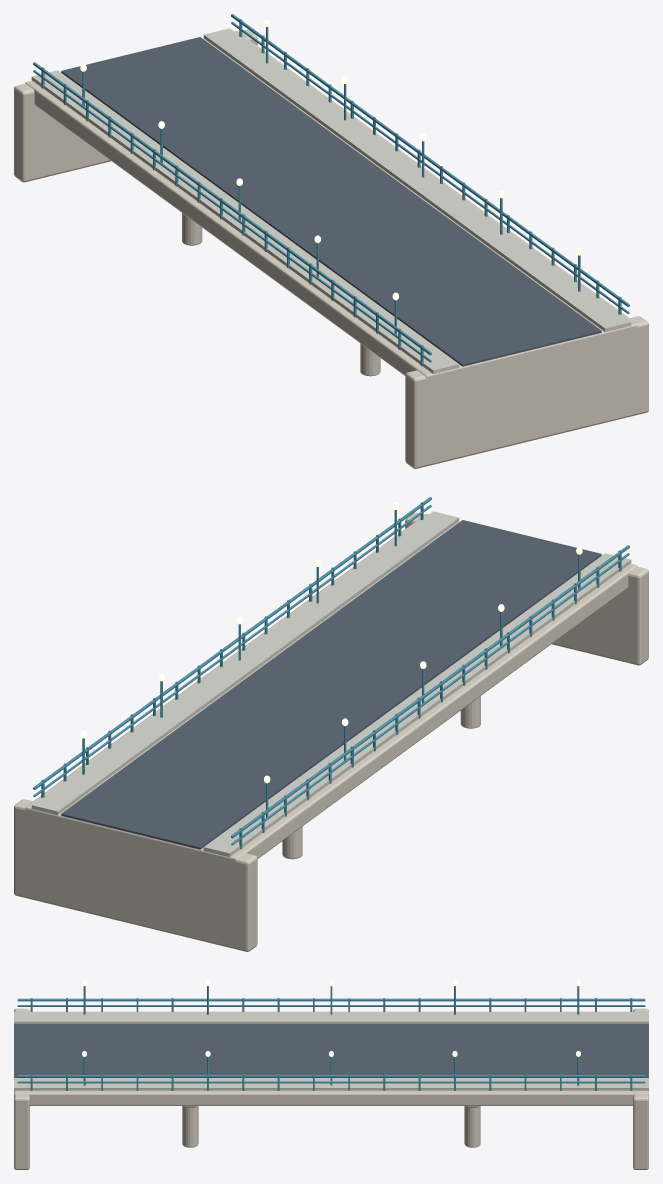
File: SM_SolCity_Bridge_01.fbx
3 views of the same model, one above another, from view 1: azimuth 30°, elevation 25°; view 2: azimuth 150°, elevation 25°; view 3: azimuth 270°, elevation 25° (orthographic). The views are drawn at different scales.
Visible parts, largest first — view 1: Bridge_Roadway, Bridge_Abutment_-1, Bridge_Deck, Bridge_Walk_1, Bridge_Walk_-1, Bridge_Abutment_1, Bridge_RailTop_-1, Bridge_RailTop_1, Bridge_RailMid_-1, Bridge_RailMid_1; view 2: Bridge_Roadway, Bridge_Abutment_1, Bridge_Deck, Bridge_Walk_1, Bridge_Walk_-1, Bridge_Abutment_-1, Bridge_RailTop_-1, Bridge_RailTop_1, Bridge_RailMid_-1, Bridge_RailMid_1; view 3: Bridge_Roadway, Bridge_Deck, Bridge_Walk_-1, Bridge_Walk_1, Bridge_RailTop_-1, Bridge_RailTop_1, Bridge_RailMid_1, Bridge_Abutment_-1, Bridge_Abutment_1, Bridge_RailMid_-1, Bridge_Pier_2.6_-8.0, Bridge_Pier_2.6_8.0.
Boxes of the visible parts, bbox=[...] form: Bridge_Roadway: bbox=[61, 37, 601, 366]; Bridge_Abutment_-1: bbox=[405, 316, 648, 468]; Bridge_Deck: bbox=[25, 31, 637, 389]; Bridge_Walk_1: bbox=[203, 28, 631, 331]; Bridge_Walk_-1: bbox=[31, 70, 459, 373]; Bridge_Abutment_1: bbox=[14, 29, 257, 182]; Bridge_RailTop_-1: bbox=[33, 62, 431, 355]; Bridge_RailTop_1: bbox=[231, 14, 629, 306]; Bridge_RailMid_-1: bbox=[33, 70, 431, 362]; Bridge_RailMid_1: bbox=[231, 22, 629, 313]; Bridge_Roadway: bbox=[61, 520, 601, 849]; Bridge_Abutment_1: bbox=[14, 799, 257, 951]; Bridge_Deck: bbox=[25, 514, 637, 872]; Bridge_Walk_1: bbox=[31, 511, 459, 814]; Bridge_Walk_-1: bbox=[203, 553, 631, 856]; Bridge_Abutment_-1: bbox=[405, 512, 648, 665]; Bridge_RailTop_-1: bbox=[231, 545, 629, 838]; Bridge_RailTop_1: bbox=[33, 497, 431, 789]; Bridge_RailMid_-1: bbox=[231, 553, 629, 845]; Bridge_RailMid_1: bbox=[33, 505, 431, 796]; Bridge_Roadway: bbox=[14, 1024, 648, 1077]; Bridge_Deck: bbox=[14, 1090, 648, 1105]; Bridge_Walk_-1: bbox=[14, 1011, 648, 1023]; Bridge_Walk_1: bbox=[14, 1078, 648, 1090]; Bridge_RailTop_-1: bbox=[17, 998, 645, 1001]; Bridge_RailTop_1: bbox=[17, 1075, 645, 1077]; Bridge_RailMid_1: bbox=[17, 1081, 645, 1083]; Bridge_Abutment_-1: bbox=[14, 1008, 29, 1169]; Bridge_Abutment_1: bbox=[633, 1008, 648, 1169]; Bridge_RailMid_-1: bbox=[17, 1005, 645, 1006]; Bridge_Pier_2.6_-8.0: bbox=[182, 1106, 198, 1147]; Bridge_Pier_2.6_8.0: bbox=[464, 1106, 480, 1147].
Size of the model in its own units: 12.2 by 36 by 6.86.
